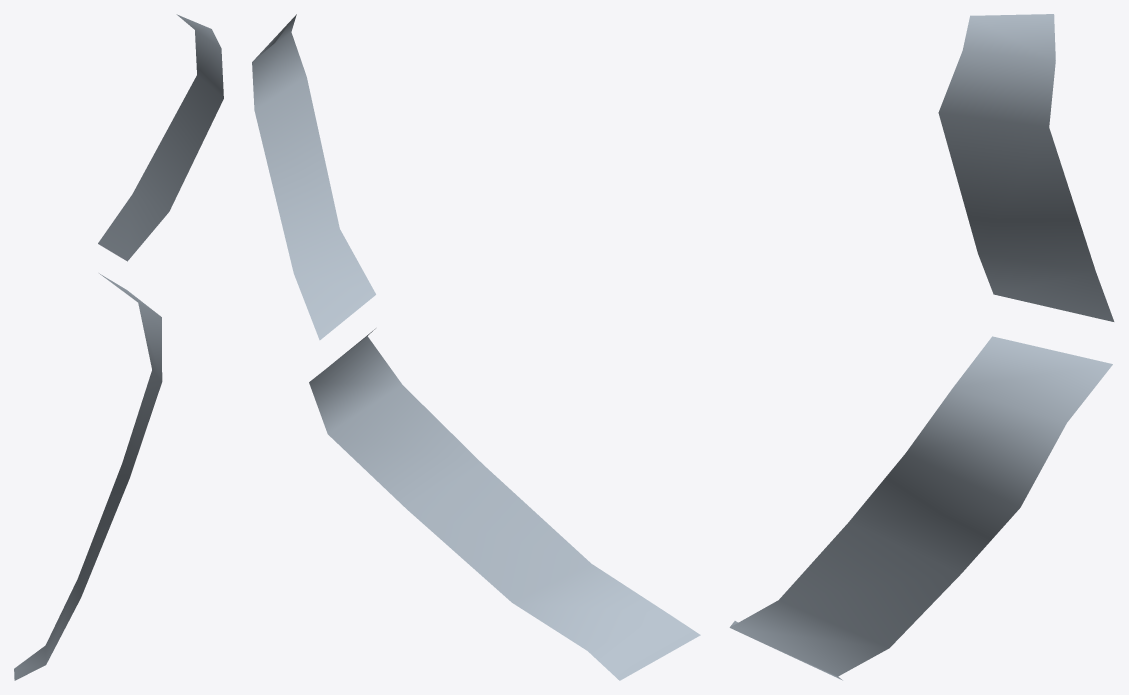
File: deep-part-of-tibial-collateral-ligament-r.glb
The picture shows the model from 3 angles, left to right: view 1: azimuth 30°, elevation 25°; view 2: azimuth 150°, elevation 25°; view 3: azimuth 270°, elevation 25°; orthographic projection. The views are drawn at different scales.
Parts seen in each view (by area): view 1: Deep part of tibial collateral ligament.r; view 2: Deep part of tibial collateral ligament.r; view 3: Deep part of tibial collateral ligament.r.
Boxes of the visible parts, bbox=[...] form: Deep part of tibial collateral ligament.r: bbox=[14, 14, 223, 680]; Deep part of tibial collateral ligament.r: bbox=[252, 14, 700, 680]; Deep part of tibial collateral ligament.r: bbox=[729, 14, 1114, 680].
Bounding box in the file's own units: 0.0339 × 0.0626 × 0.0259.
